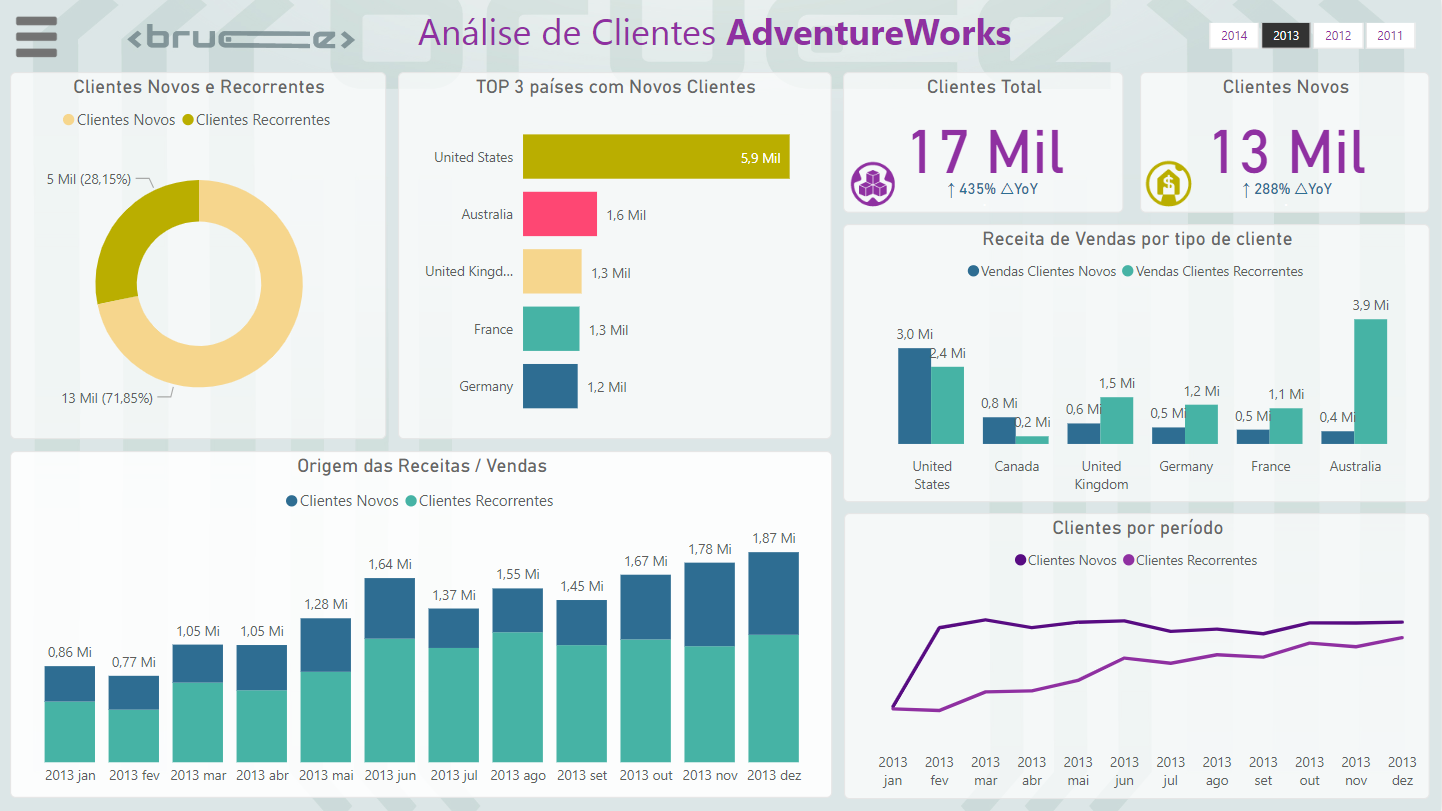

The page's visual inventory and layout, read from the dashboard file:
{"tool":"powerbi","page":{"name":"Clientes AdventureWorks","canvas":[1280,720],"ordinal":0},"visuals":[{"type":"slicer","fields":{"Values":["DimDate.CalendarYear"]},"box":[1047.3,13.6,232.7,36.4],"z":0},{"type":"clusteredColumnChart","title":"Receita de Vendas por tipo de cliente","fields":{"Category":["DimGeography.EnglishCountryRegionName"],"Y":["#Measures.Vendas Clientes Novos","#Measures.Vendas Clientes Recorrentes"]},"box":[748.2,199.1,520.9,247.3],"z":1000},{"type":"card","title":"Clientes Novos","fields":{"Values":["#Measures.Clientes Novos"]},"box":[1011.8,63.6,257.3,125.5],"z":2000},{"type":"card","title":"Clientes Total","fields":{"Values":["#Measures.Clientes"]},"box":[748.2,63.6,249.1,125.5],"z":3000},{"type":"card","fields":{"Values":["#Measures.Clientes Novos LY Delta % txt"]},"box":[1062.3,149,159.6,39.9],"z":4000},{"type":"card","fields":{"Values":["#Measures.Clientes LY Delta % txt"]},"box":[799.8,149,162.3,39.9],"z":5000},{"type":"donutChart","title":"Clientes Novos e Recorrentes","fields":{"Y":["#Measures.Clientes Novos","#Measures.Clientes - novos"]},"box":[9.1,63.6,333.6,326.4],"z":6000},{"type":"clusteredBarChart","title":"TOP 3 países com Novos Clientes","fields":{"Y":["#Measures.Clientes Novos"],"Category":["DimGeography.EnglishCountryRegionName"]},"box":[353.6,63.6,384.5,326.4],"z":7000},{"type":"columnChart","title":"Origem das Receitas / Vendas","fields":{"Category":["DimDate.YearMonthDesc"],"Y":["#Measures.Vendas Clientes Novos","#Measures.Vendas Clientes Recorrentes"]},"box":[8.9,400.8,729.8,307.7],"z":8000},{"type":"lineChart","title":"Clientes por período","fields":{"Category":["DimDate.YearMonthDesc"],"Y":["#Measures.Clientes Novos","#Measures.Clientes Recorrentes"]},"box":[749.1,455.5,520,253.6],"z":9000},{"type":"textbox","box":[343.6,0,653.6,63.6],"z":10000},{"type":"image","box":[749.1,138.2,50.9,50],"z":11000},{"type":"image","box":[1011.8,137.3,50.9,50.9],"z":12000},{"type":"image","box":[8.9,7.1,47,49.7],"z":13000},{"type":"actionButton","box":[0,0,63,63.8],"z":14000}]}

Visuals, with their boxes in screenshot pixels (x1, y1, x2, y2), scaled from the page's 1280x720 canvas onto the 1442x811 screenshot:
slicer - DimDate.CalendarYear: {"left": 1180, "top": 15, "right": 1441, "bottom": 56}
"Receita de Vendas por tipo de cliente" clusteredColumnChart: {"left": 843, "top": 224, "right": 1430, "bottom": 503}
"Clientes Novos" card: {"left": 1140, "top": 72, "right": 1430, "bottom": 213}
"Clientes Total" card: {"left": 843, "top": 72, "right": 1124, "bottom": 213}
card - #Measures.Clientes Novos LY Delta % txt: {"left": 1197, "top": 168, "right": 1377, "bottom": 213}
card - #Measures.Clientes LY Delta % txt: {"left": 901, "top": 168, "right": 1084, "bottom": 213}
"Clientes Novos e Recorrentes" donutChart: {"left": 10, "top": 72, "right": 386, "bottom": 439}
"TOP 3 países com Novos Clientes" clusteredBarChart: {"left": 398, "top": 72, "right": 832, "bottom": 439}
"Origem das Receitas / Vendas" columnChart: {"left": 10, "top": 451, "right": 832, "bottom": 798}
"Clientes por período" lineChart: {"left": 844, "top": 513, "right": 1430, "bottom": 799}
textbox: {"left": 387, "top": 0, "right": 1123, "bottom": 72}
image: {"left": 844, "top": 156, "right": 901, "bottom": 212}
image: {"left": 1140, "top": 155, "right": 1197, "bottom": 212}
image: {"left": 10, "top": 8, "right": 63, "bottom": 64}
actionButton: {"left": 0, "top": 0, "right": 71, "bottom": 72}
